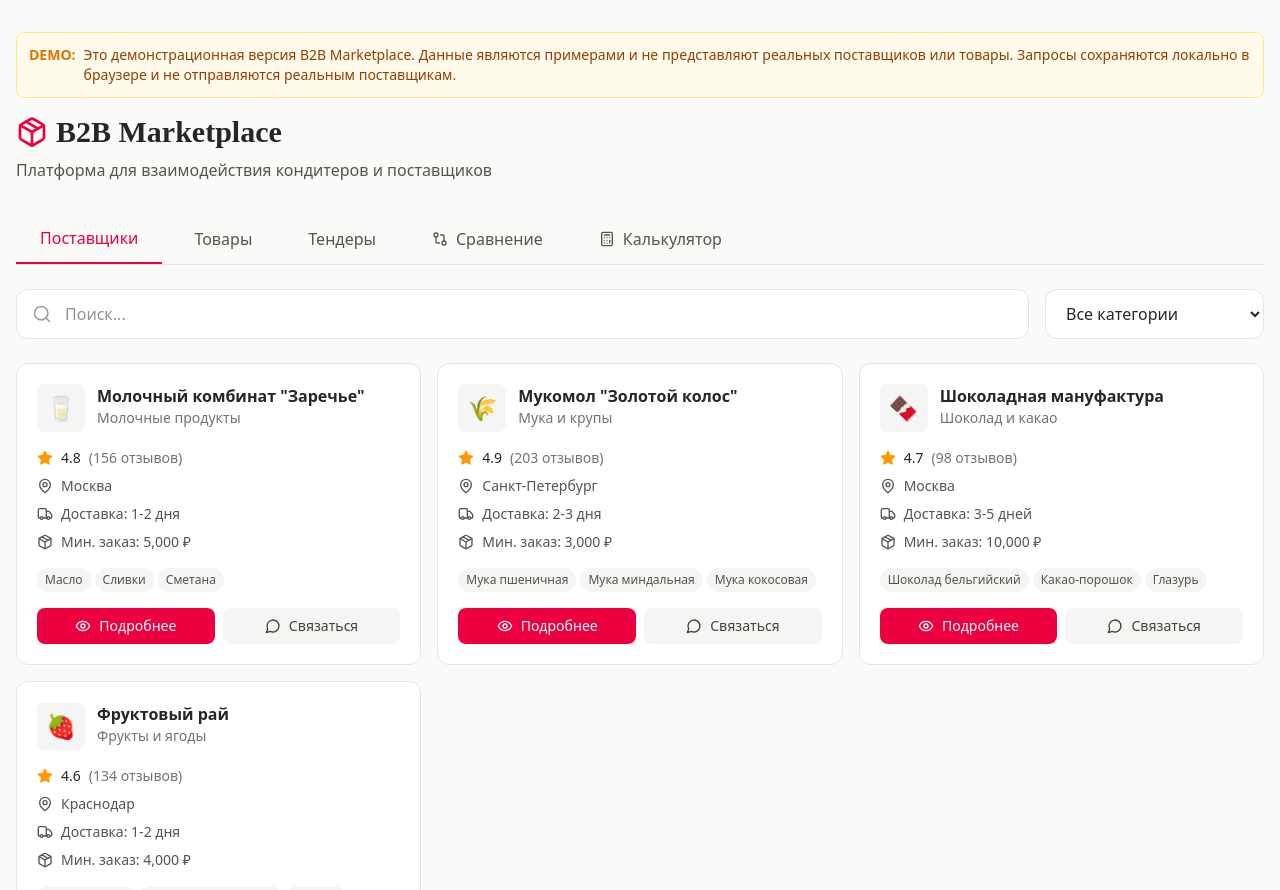
B2B Marketplace V2 › Контактный запрос › должен валидировать формат телефона
Click the button "Связаться" below "Масло" at (312, 626), box [223, 608, 400, 644]
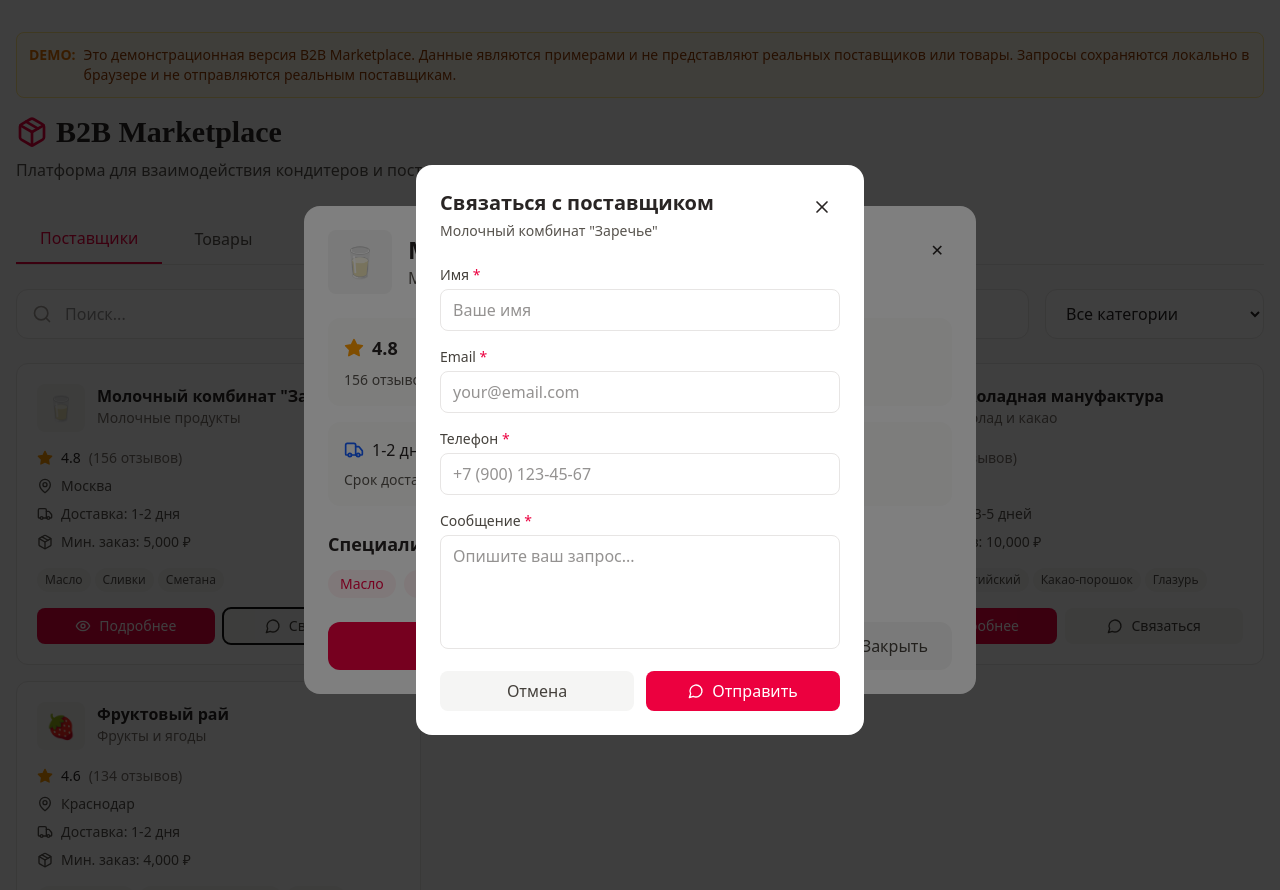
Type "123" into the field with placeholder "+7 (900) 123-45-67" at (640, 474), box [440, 453, 840, 495]
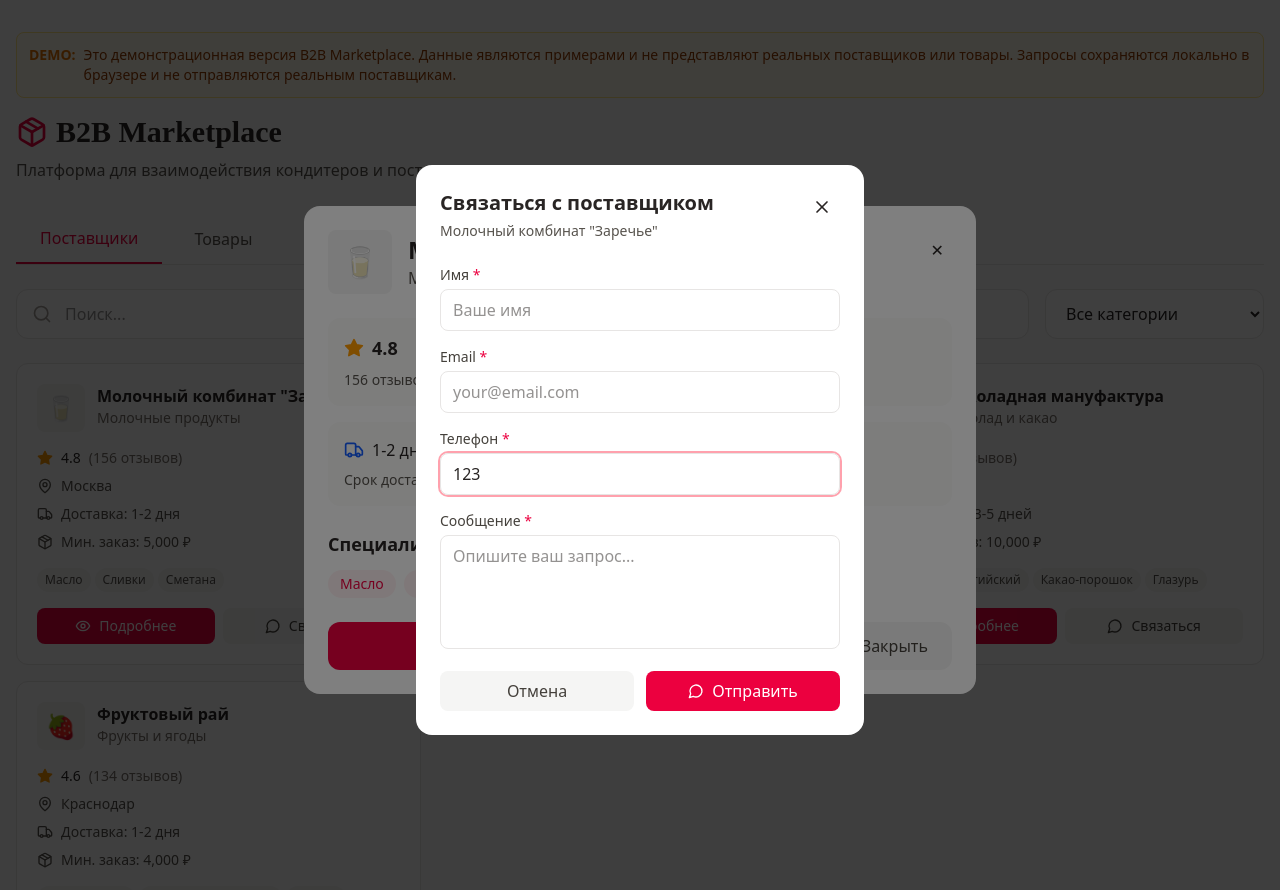
Click the button "Отправить" at (743, 691), box [646, 671, 840, 711]
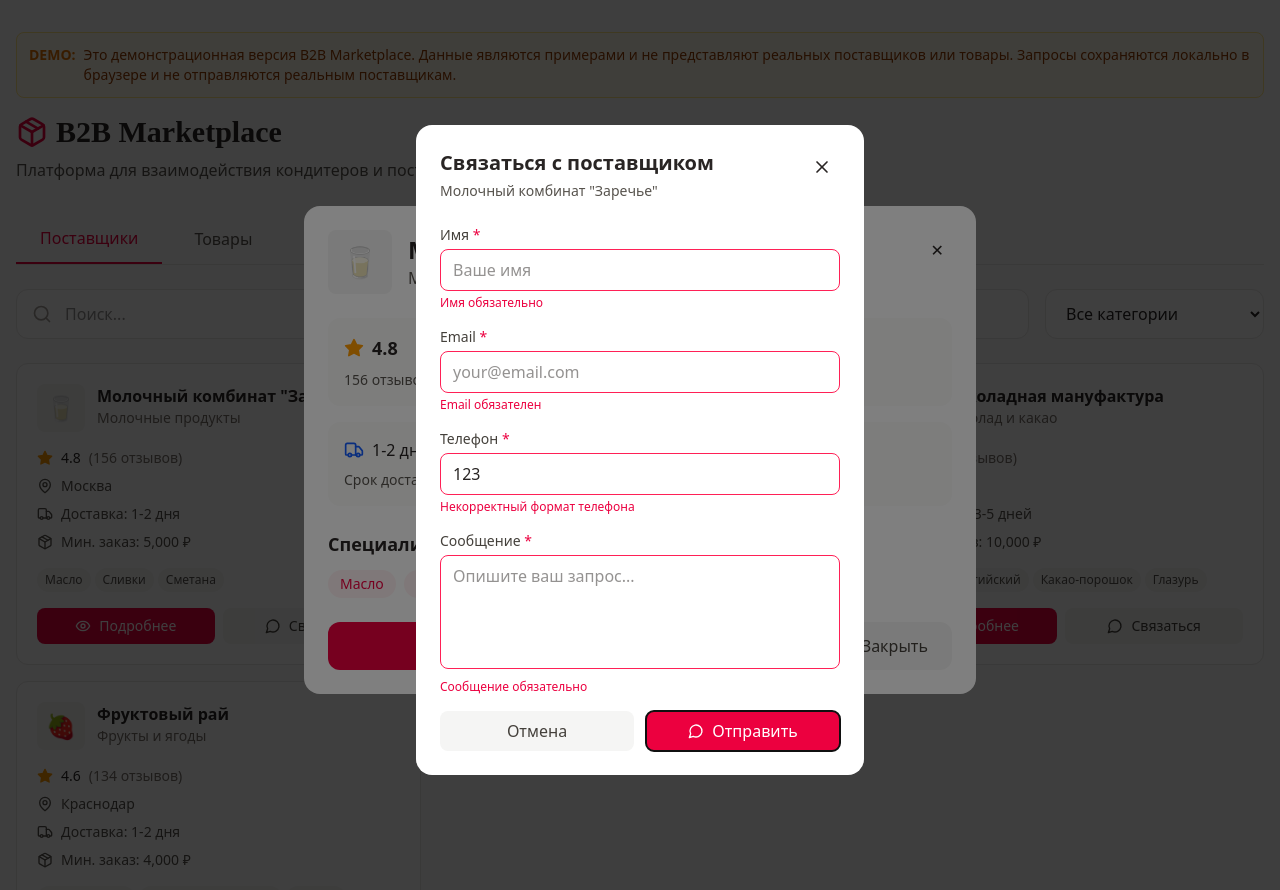
Expected: the text "Некорректный формат телефона" is shown, [440, 498, 635, 515]
